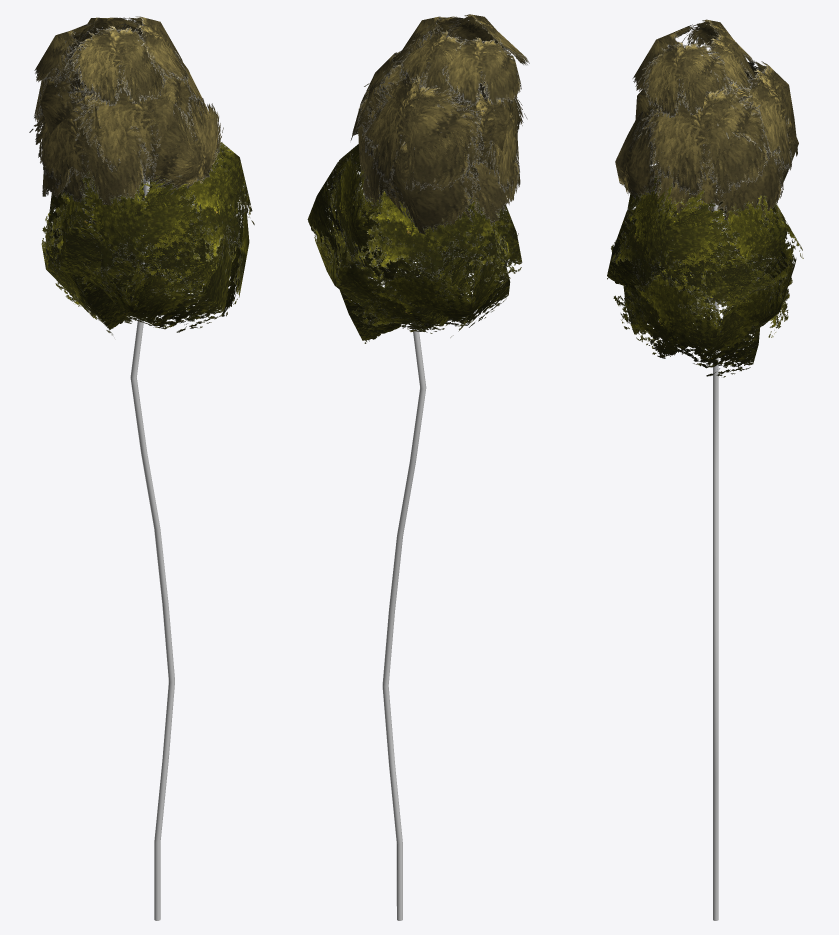
File: Tree_180m.fbx
The picture shows the model from 3 angles, left to right: view 1: azimuth 30°, elevation 25°; view 2: azimuth 150°, elevation 25°; view 3: azimuth 270°, elevation 25°; orthographic projection. The views are drawn at different scales.
Parts seen in each view (by area): view 1: Tree_180m; view 2: Tree_180m; view 3: Tree_180m.
Part boxes in pixels (x1,y1,x2,y2): Tree_180m: [29, 16, 254, 920]; Tree_180m: [307, 14, 529, 920]; Tree_180m: [607, 19, 803, 920].
Size of the model in its own units: 49.31 by 192 by 48.95.
